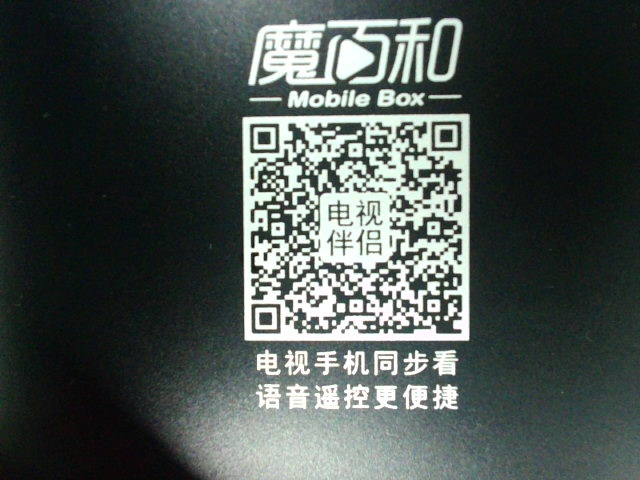AZ_MobileBox: (232, 13, 481, 413)
